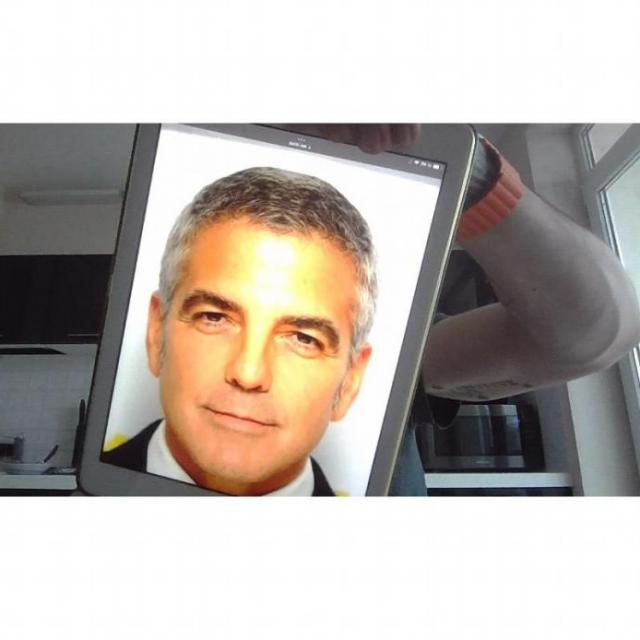device: (74, 123, 480, 496)
